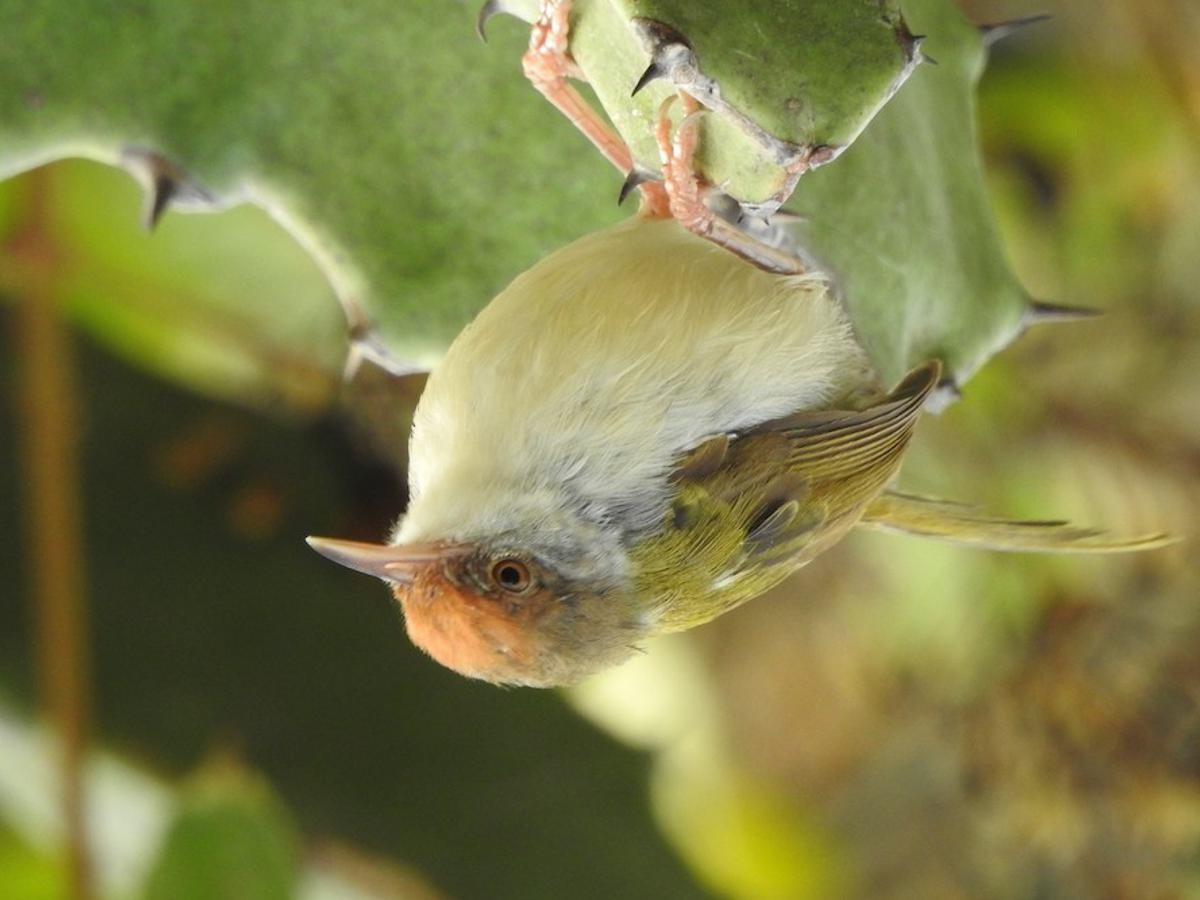tailorbird: (261, 186, 1167, 740)
